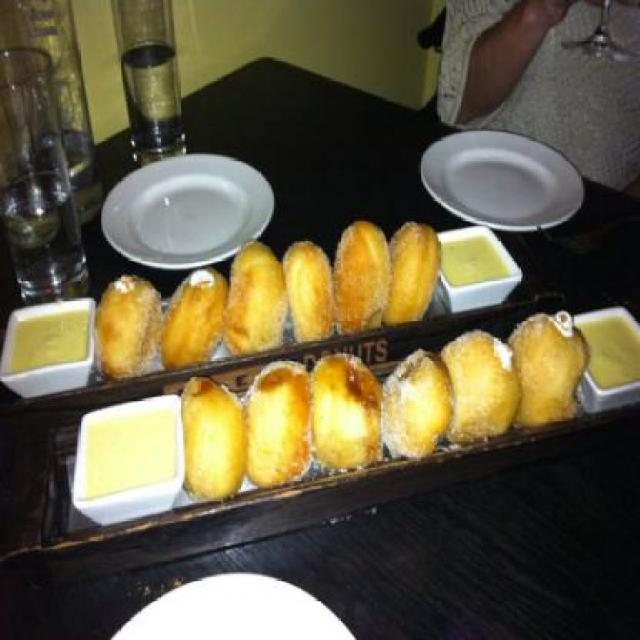Donuts: (72, 252, 596, 476)
